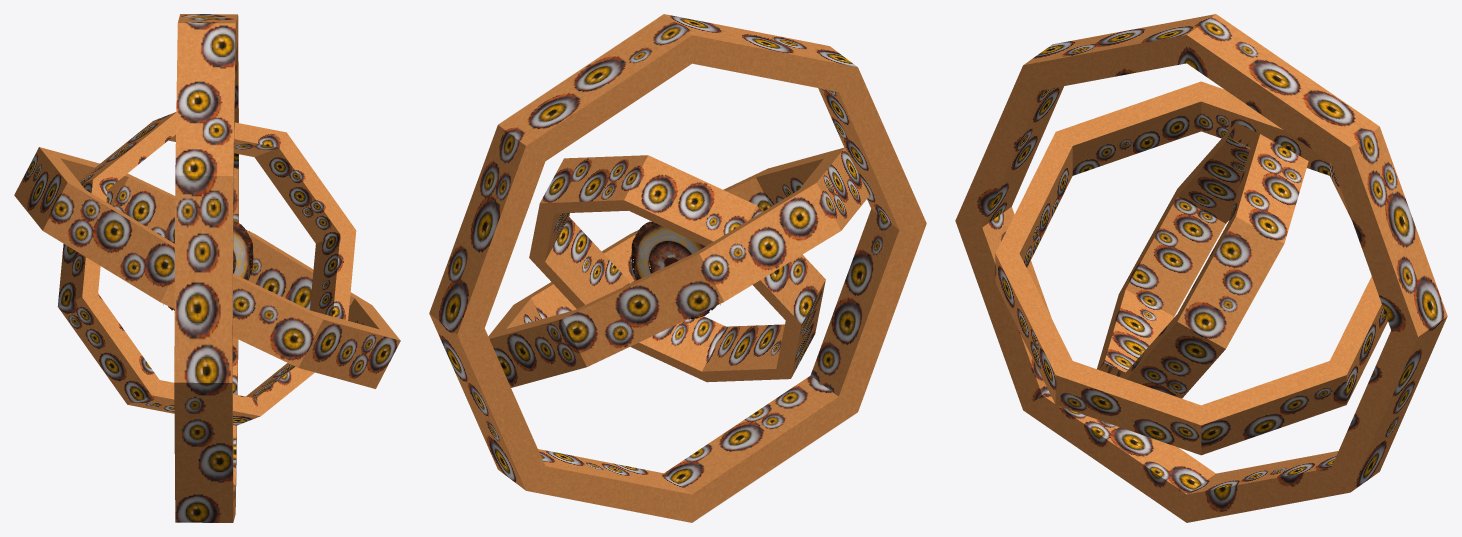
The model's file is ophanim_000003.obj.
3 renders of one model, left to right at view 1: azimuth 30°, elevation 25°; view 2: azimuth 150°, elevation 25°; view 3: azimuth 270°, elevation 25°, orthographic.
Visible parts, largest first — view 1: Ring3, Ring2, Ring1, Eye; view 2: Ring3, Ring2, Ring1, Eye; view 3: Ring3, Ring2, Ring1.
Part boxes in pixels (x1,y1,x2,y2): Ring3: (174, 14, 238, 522); Ring2: (14, 147, 400, 388); Ring1: (57, 112, 356, 425); Eye: (163, 221, 253, 310); Ring3: (429, 14, 926, 522); Ring2: (488, 147, 869, 387); Ring1: (529, 155, 825, 382); Eye: (627, 221, 720, 319); Ring3: (955, 14, 1447, 522); Ring2: (995, 81, 1387, 455); Ring1: (1097, 122, 1308, 398).
Size of the model in its own units: 0.2439 by 0.3468 by 0.3171.
Materials: 2 (2 with a texture image).
